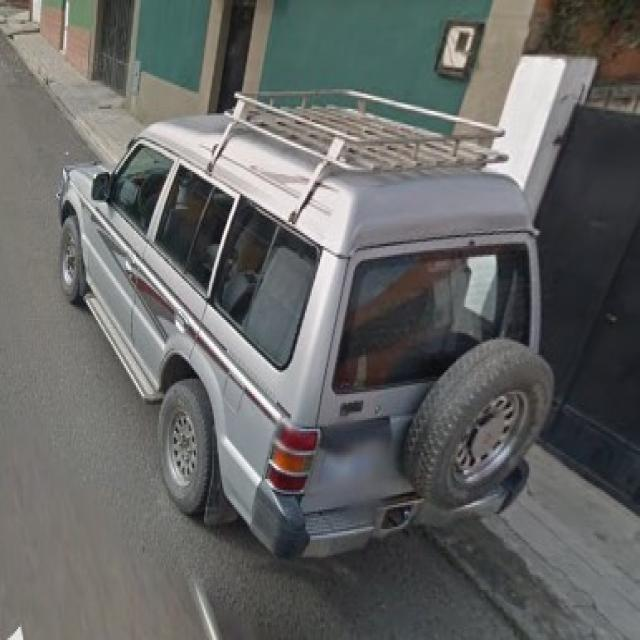cars: (59, 89, 550, 551)
